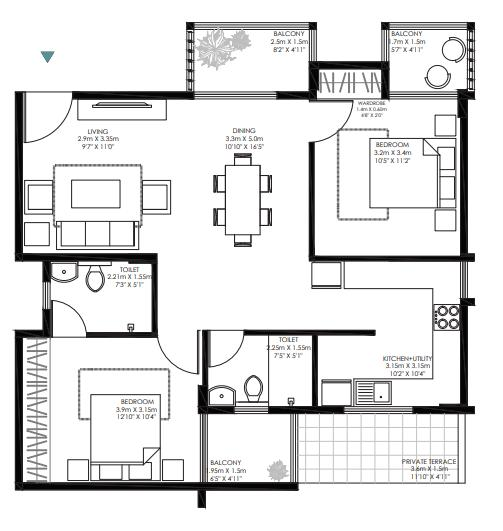Balcony: (193, 29, 308, 94), (205, 415, 292, 480), (391, 32, 470, 89)
Bed: (370, 138, 460, 210), (91, 391, 161, 480)
Bedroom: (312, 102, 462, 258), (55, 337, 200, 479)
Dining Room: (194, 102, 311, 273)
Dining table: (200, 142, 284, 257)
Kitchen: (344, 264, 462, 405)
Living Room: (22, 98, 192, 261)
Sofa: (56, 224, 140, 251), (24, 184, 56, 215), (140, 181, 170, 209)
Terrace: (296, 415, 463, 483)
Wardrobe: (20, 338, 54, 482), (318, 72, 381, 100)
commode: (245, 375, 264, 403), (85, 264, 104, 292)
door: (24, 92, 71, 142), (309, 97, 352, 144), (160, 335, 199, 370), (52, 301, 86, 337), (208, 331, 242, 366)
sink: (354, 379, 393, 407), (52, 264, 78, 281), (210, 390, 233, 404)
stove: (432, 304, 461, 331)
toilet: (211, 332, 312, 411), (52, 264, 152, 332)
tv: (79, 96, 166, 121)
utility: (319, 335, 394, 407)
